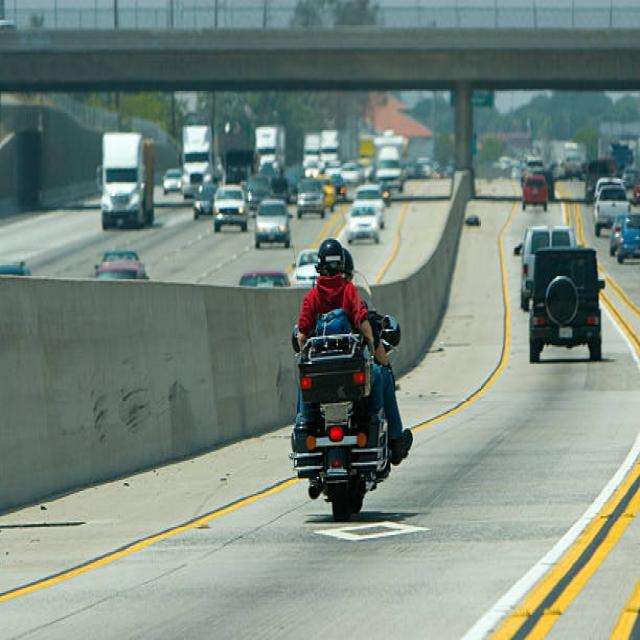Car: (93, 250, 149, 280), (345, 202, 380, 243), (291, 248, 320, 287), (238, 270, 290, 287), (162, 168, 182, 193)
Motorcycle: (288, 270, 402, 521)
Truck: (98, 130, 154, 229)
